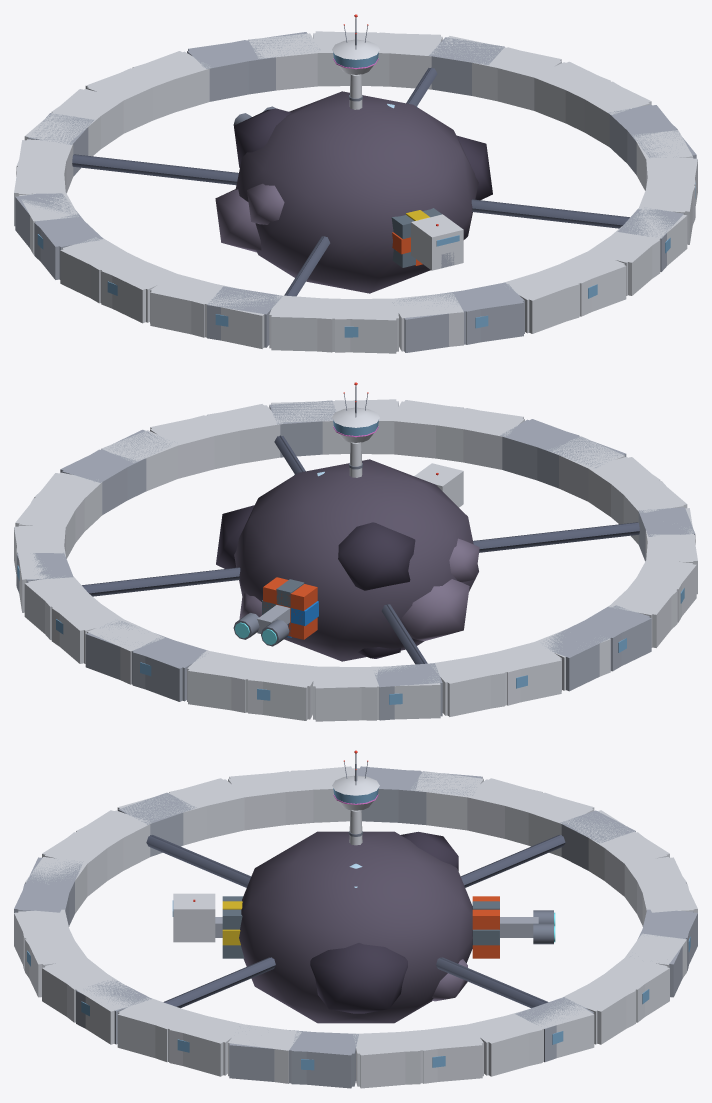
File: space.glb
The picture shows the model from 3 angles, top to bottom: view 1: azimuth 30°, elevation 25°; view 2: azimuth 150°, elevation 25°; view 3: azimuth 270°, elevation 25°; orthographic projection.
Visible parts, largest first — view 1: ring, ring~far, rock_c, freighter, freighter~far, spire; view 2: ring, ring~far, rock_c, freighter, freighter~far, spire; view 3: ring, ring~far, rock_c, freighter~far, freighter, spire.
Boxes of the visible parts, x1,y1,x2,y2 form: ring: [16, 32, 695, 352]; ring~far: [14, 31, 697, 353]; rock_c: [215, 91, 492, 293]; freighter: [233, 106, 462, 269]; freighter~far: [391, 208, 463, 270]; spire: [332, 14, 379, 109]; ring: [16, 400, 695, 720]; ring~far: [14, 399, 697, 721]; rock_c: [216, 459, 479, 661]; freighter: [233, 464, 463, 646]; freighter~far: [234, 463, 463, 644]; spire: [332, 382, 379, 477]; ring: [18, 768, 693, 1086]; ring~far: [14, 766, 697, 1088]; rock_c: [239, 831, 472, 1023]; freighter~far: [173, 893, 538, 958]; freighter: [172, 894, 555, 945]; spire: [332, 750, 379, 845].
Bounding box in the file's own units: 131 × 55.68 × 131.
